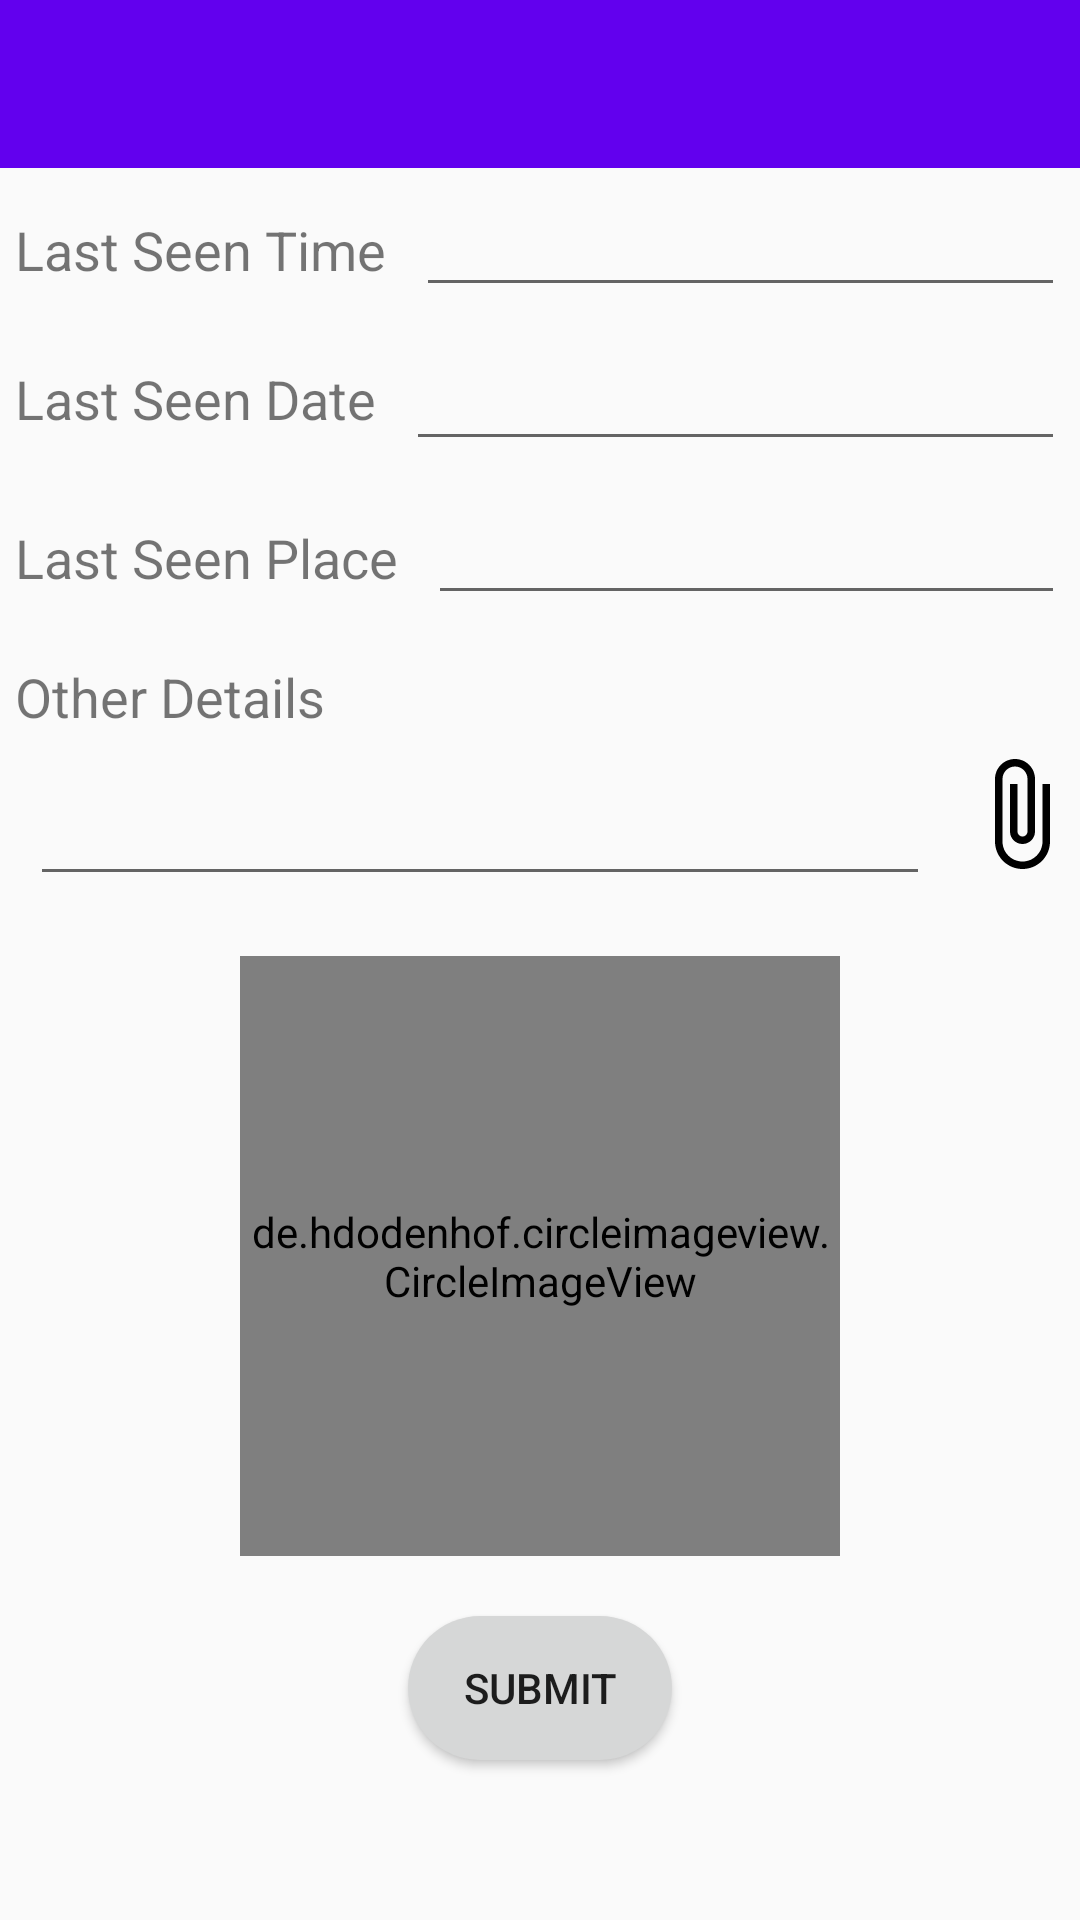

Screen size 1080px x 1920px. Icon name, then its center in pixels as [x,y]:
attach file: [1022,814]
